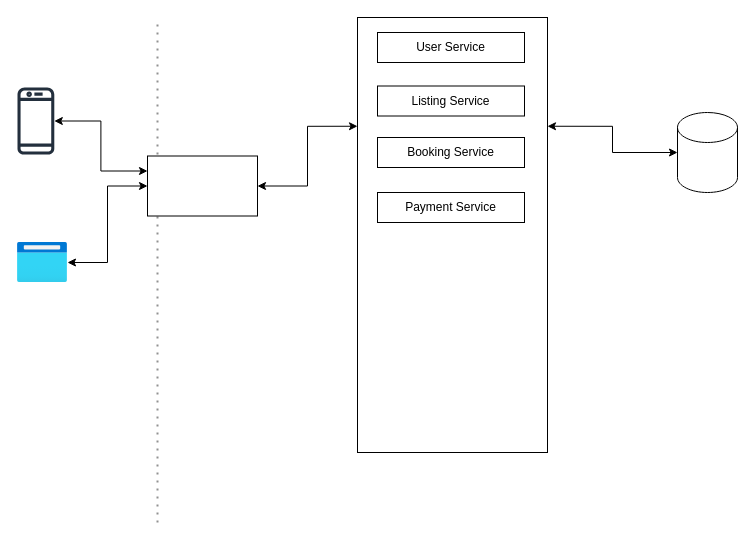
This 755x542 diagram has some shape labels left out. Here are the shapes that lost their labels. From the top down, the box of each, then its label:
(676, 112, 738, 192): MySql
(146, 155, 258, 216): API Gateway
